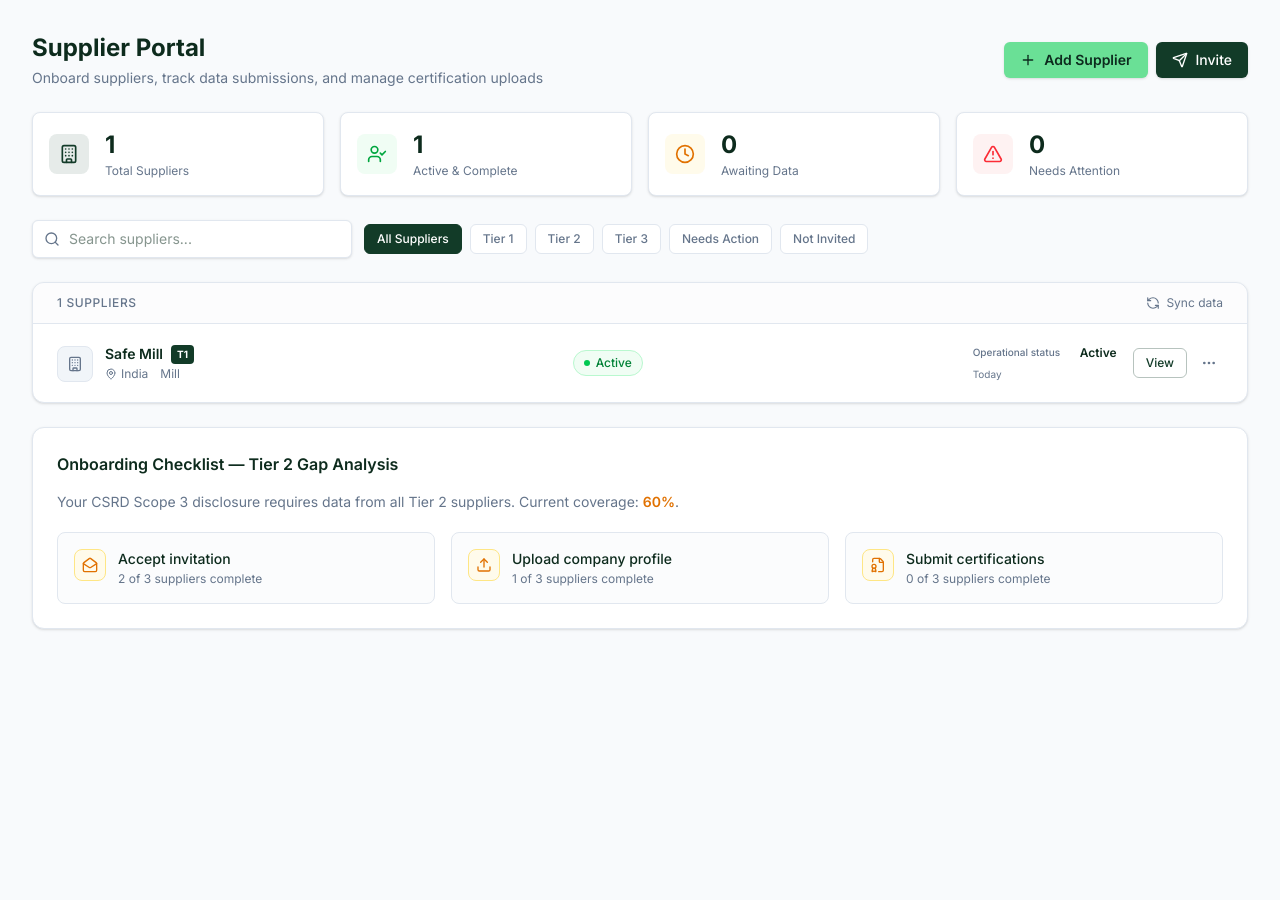
Test case: Supplier Portal access administration › loads and safely displays active access and contactless pending invitations
Click the button named "Manage portal access for Safe Mill" at (1209, 363), box [1195,349,1223,377]
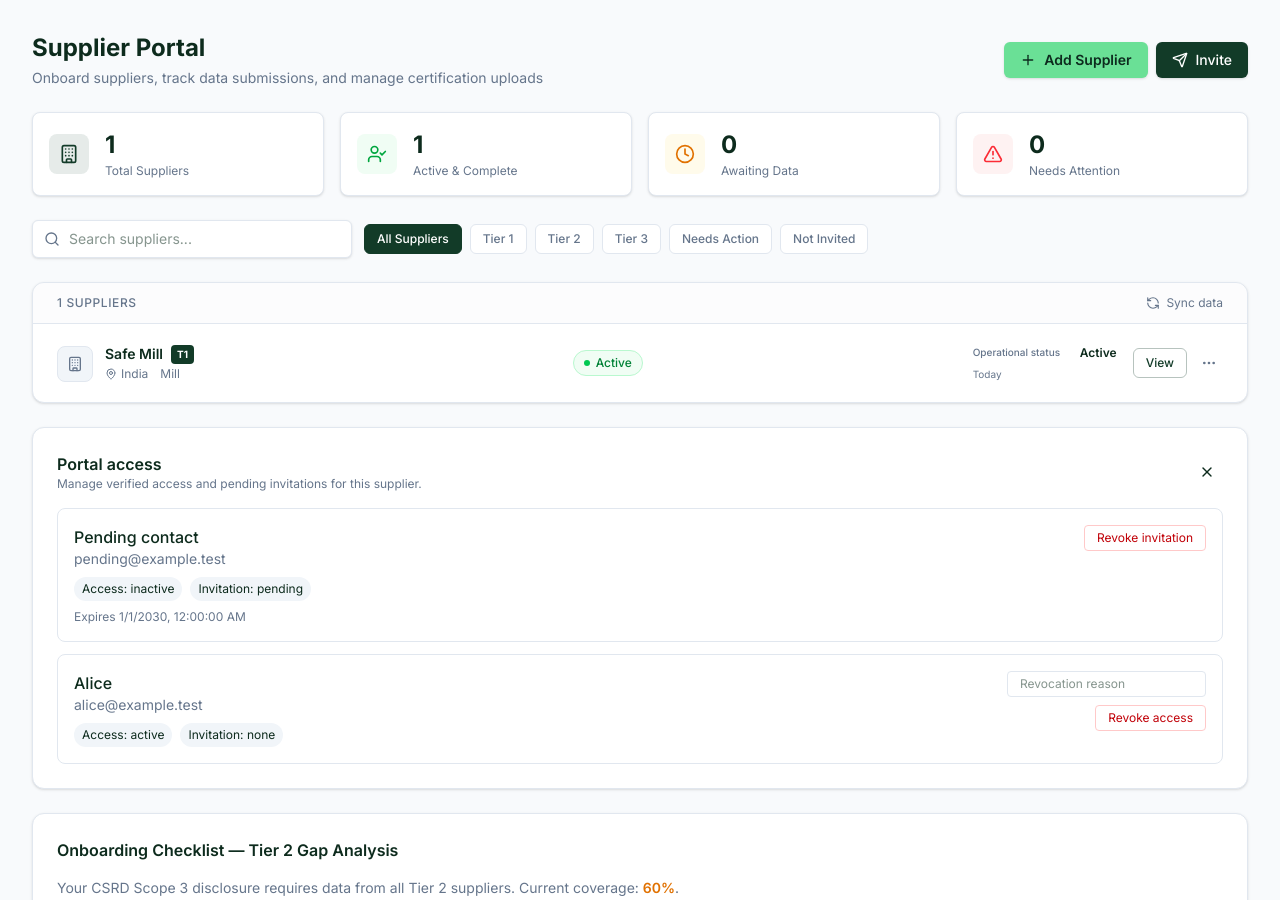
Expected: the text "pending@example.test" is shown, [74,550,226,567]
Expected: the text "Access: active" is shown, [74,723,172,747]
Expected: the button "Revoke invitation" is shown, [1084,525,1206,551]
